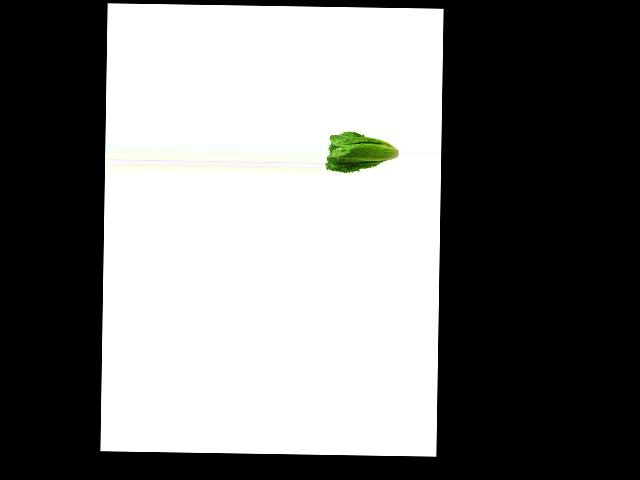lettuce: (325, 126, 398, 175)
